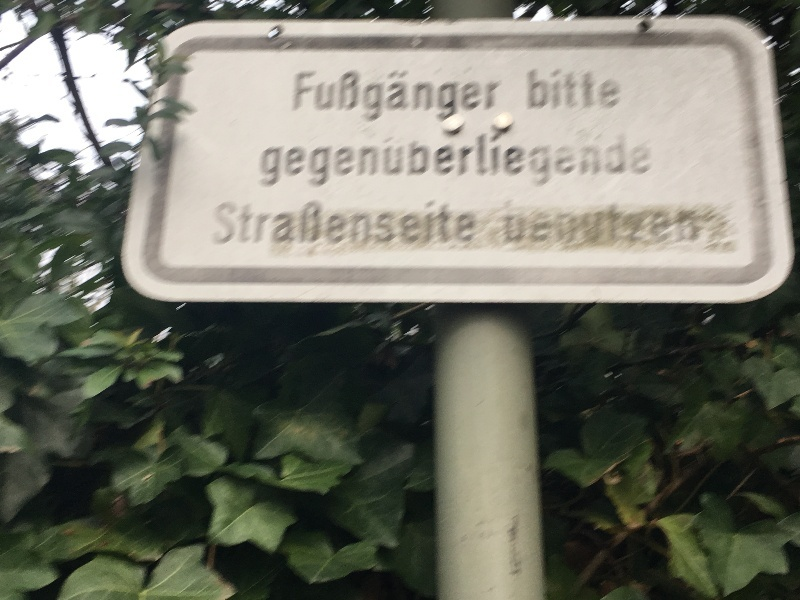text: (273, 128, 288, 189), (289, 128, 304, 189), (305, 128, 320, 189), (321, 128, 336, 189), (337, 128, 352, 189), (353, 128, 368, 189), (369, 128, 384, 189), (385, 128, 400, 189), (401, 128, 416, 189), (417, 128, 432, 189), (433, 128, 448, 189), (449, 128, 464, 189), (465, 128, 480, 189), (481, 128, 496, 189), (497, 128, 512, 189), (513, 128, 528, 189), (529, 128, 544, 189), (545, 128, 560, 189), (561, 128, 576, 189), (577, 128, 592, 189), (593, 128, 608, 189), (609, 128, 624, 189), (625, 128, 640, 189), (305, 72, 320, 125), (321, 72, 336, 125), (337, 72, 352, 125), (353, 72, 368, 125), (369, 72, 384, 125), (385, 72, 400, 125), (401, 72, 416, 125), (417, 72, 432, 125), (433, 72, 448, 125), (449, 72, 464, 125), (465, 72, 480, 125), (481, 72, 496, 125), (225, 196, 240, 245), (241, 196, 256, 245), (257, 196, 272, 245), (273, 196, 288, 245), (289, 196, 304, 245), (305, 196, 320, 245), (321, 196, 336, 245), (337, 196, 352, 245), (353, 196, 368, 245), (369, 196, 384, 245), (385, 196, 400, 245), (401, 196, 416, 245), (417, 196, 432, 245), (433, 196, 448, 245), (449, 196, 464, 245), (641, 128, 652, 189), (529, 68, 544, 112), (545, 68, 560, 112), (561, 68, 576, 112), (577, 68, 592, 112), (593, 68, 608, 112), (262, 128, 272, 189), (513, 204, 528, 244), (529, 204, 544, 244), (545, 204, 560, 244), (561, 204, 576, 244), (577, 204, 592, 244), (593, 204, 608, 244), (609, 204, 624, 244), (625, 204, 640, 244), (641, 204, 656, 244), (657, 204, 672, 244), (673, 204, 688, 244), (465, 196, 477, 245), (609, 68, 620, 112), (497, 72, 506, 125), (689, 204, 698, 244), (504, 204, 512, 244), (298, 72, 304, 125), (220, 196, 224, 245), (527, 68, 528, 112)
